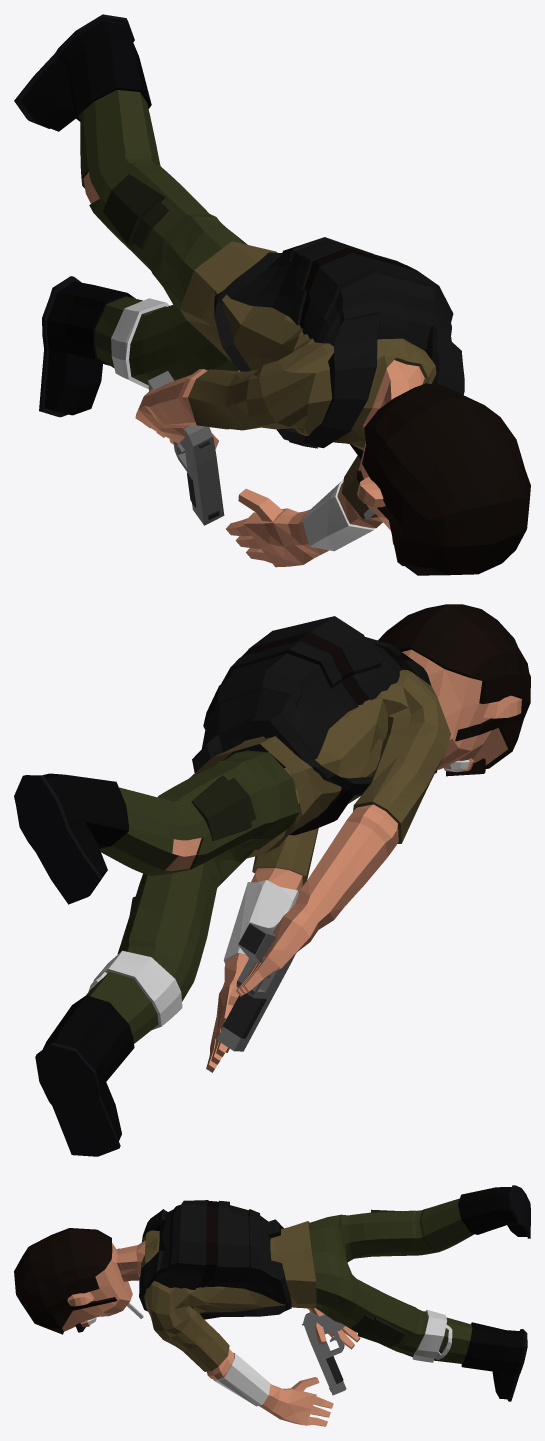
The model's file is frame_0025.obj.
3 renders of one model, top to bottom at view 1: azimuth 30°, elevation 25°; view 2: azimuth 150°, elevation 25°; view 3: azimuth 270°, elevation 25°, orthographic. The views are drawn at different scales.
Parts seen in each view (by area): view 1: Body, Gun; view 2: Body, Gun; view 3: Body, Gun.
Part boxes in pixels (bbox=[...]): Body: bbox=[14, 14, 530, 575]; Gun: bbox=[148, 371, 224, 525]; Body: bbox=[14, 604, 530, 1156]; Gun: bbox=[216, 922, 296, 1051]; Body: bbox=[14, 1185, 530, 1426]; Gun: bbox=[302, 1312, 346, 1395].
Bounding box in the file's own units: 1.13 × 2.17 × 4.13.
